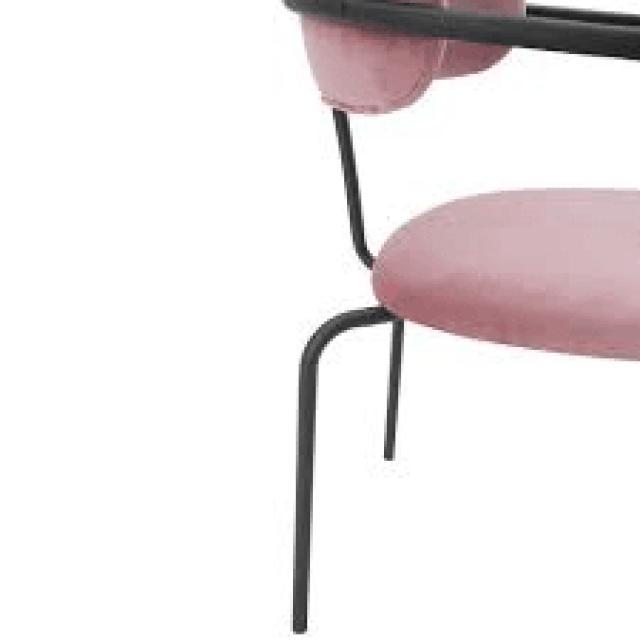chair: (270, 0, 640, 640), (293, 0, 640, 327)
